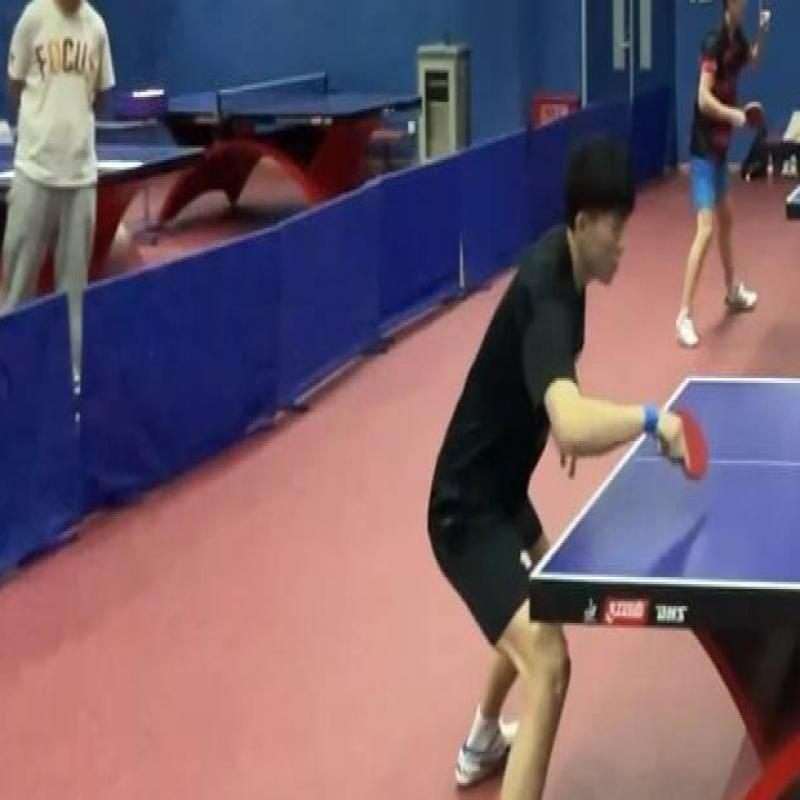bats: (650, 395, 723, 490)
